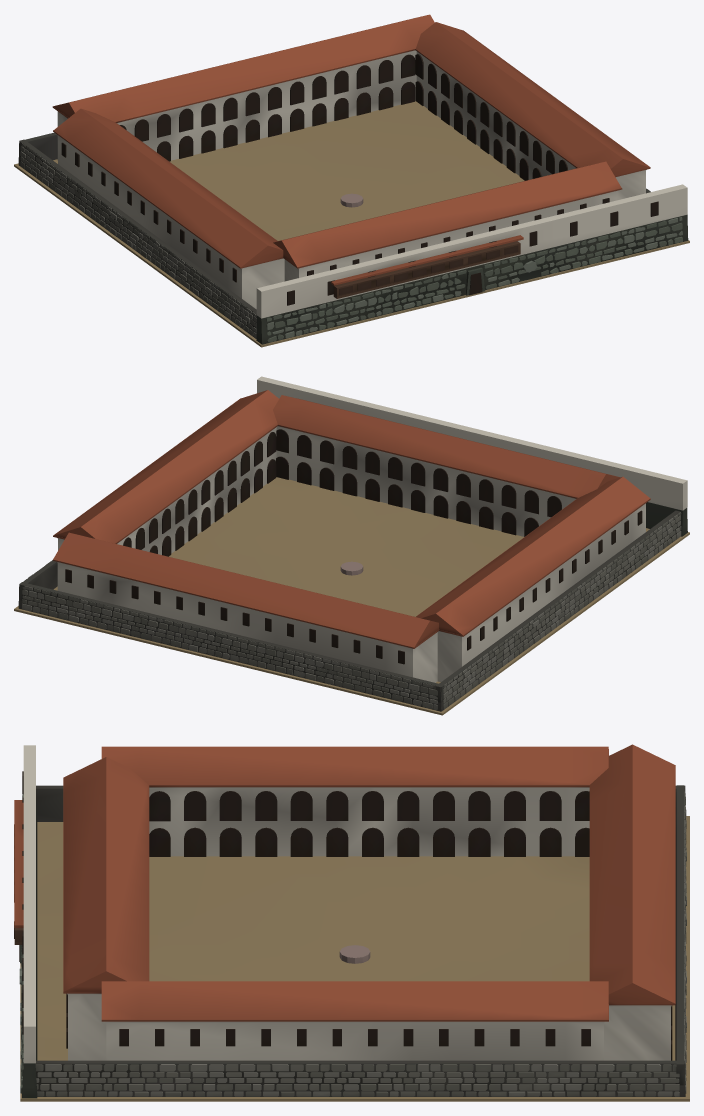
File: hatun-rumiyoc-1650.glb
3 renders of one model, top to bottom at view 1: azimuth 30°, elevation 25°; view 2: azimuth 150°, elevation 25°; view 3: azimuth 270°, elevation 25°, orthographic. The views are drawn at different scales.
Visible parts, largest first — view 1: p1_walls, p2_roofs, p0_ground; view 2: p1_walls, p2_roofs, p0_ground; view 3: p1_walls, p2_roofs, p0_ground.
Boxes of the visible parts, x1=… form: p1_walls: x1=18, y1=50, x2=688, y2=344; p2_roofs: x1=52, y1=14, x2=650, y2=285; p0_ground: x1=14, y1=101, x2=689, y2=347; p1_walls: x1=18, y1=376, x2=687, y2=711; p2_roofs: x1=53, y1=390, x2=650, y2=648; p0_ground: x1=14, y1=477, x2=689, y2=715; p1_walls: x1=14, y1=745, x2=686, y2=1098; p2_roofs: x1=14, y1=744, x2=675, y2=1021; p0_ground: x1=20, y1=816, x2=689, y2=1101.
Bounding box in the file's own units: 70 × 11.13 × 70.65.
